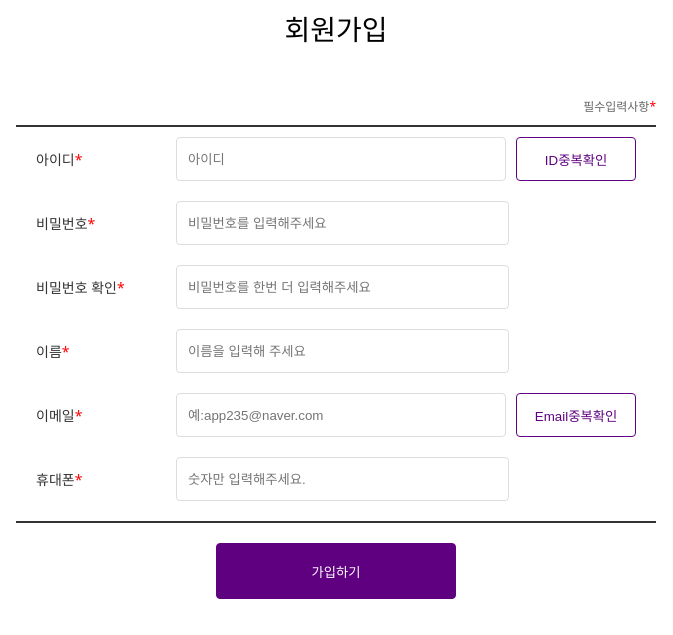
Test case: 회원가입 페이지 › 비밀번호 유효성 검사 에러메세지 노출
In the password field with id "input-pwd": (340, 223) [188,202,493,244], type "asdf123"
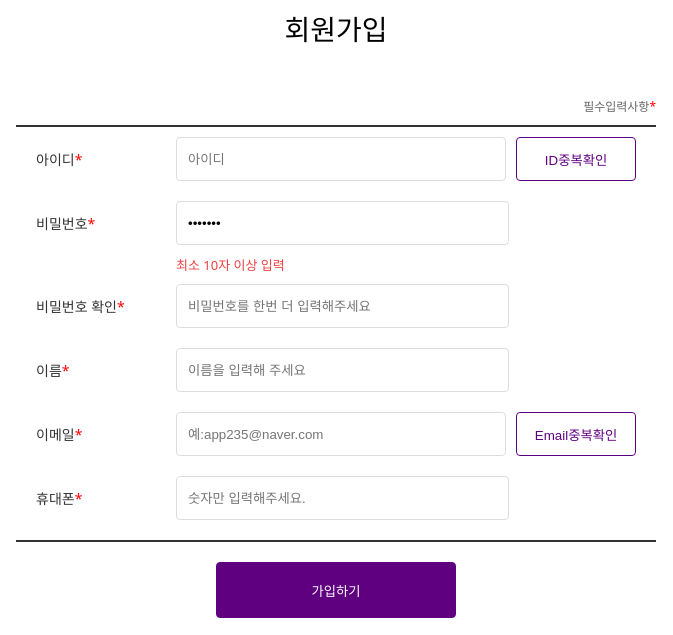
Expected: the text named "password Error Message" reads "최소 10자 이상 입력", [176,256,285,274]
In the password field with id "input-pwd": (340, 223) [188,202,493,244], type "123456"
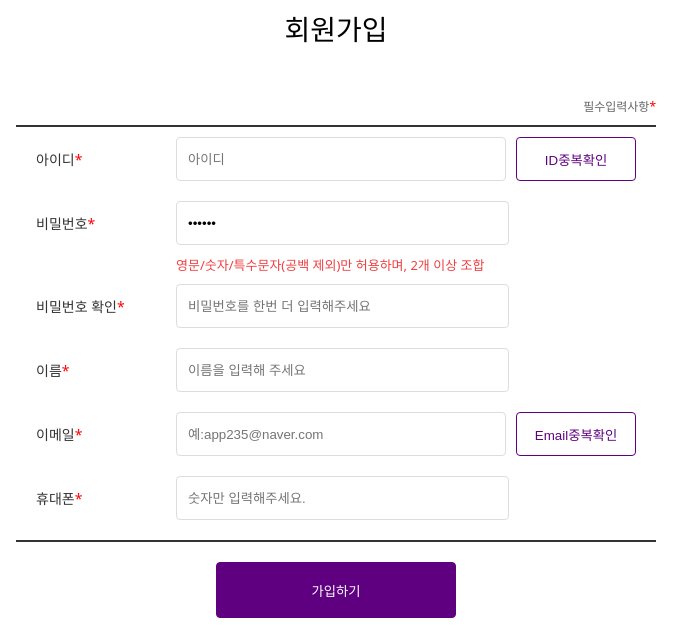
Expected: the text named "password Error Message" reads "영문/숫자/특수문자(공백 제외)만 허용하며, 2개 이상 조합", [176,256,484,274]
